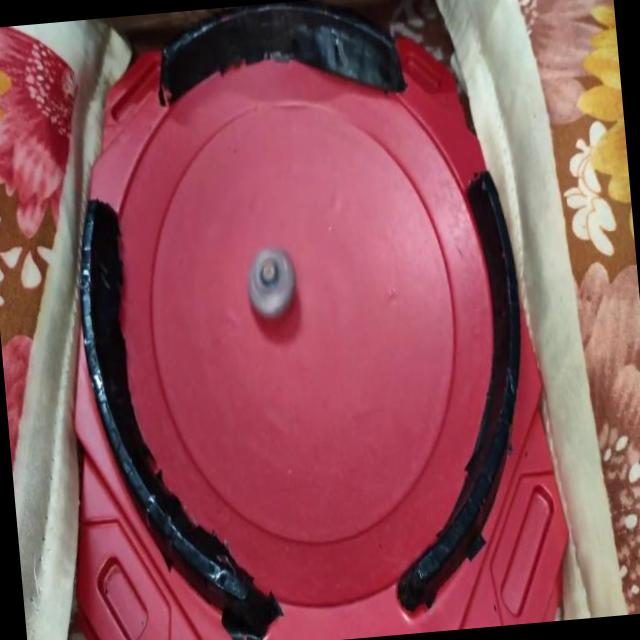Beyblade: (244, 243, 297, 318)
